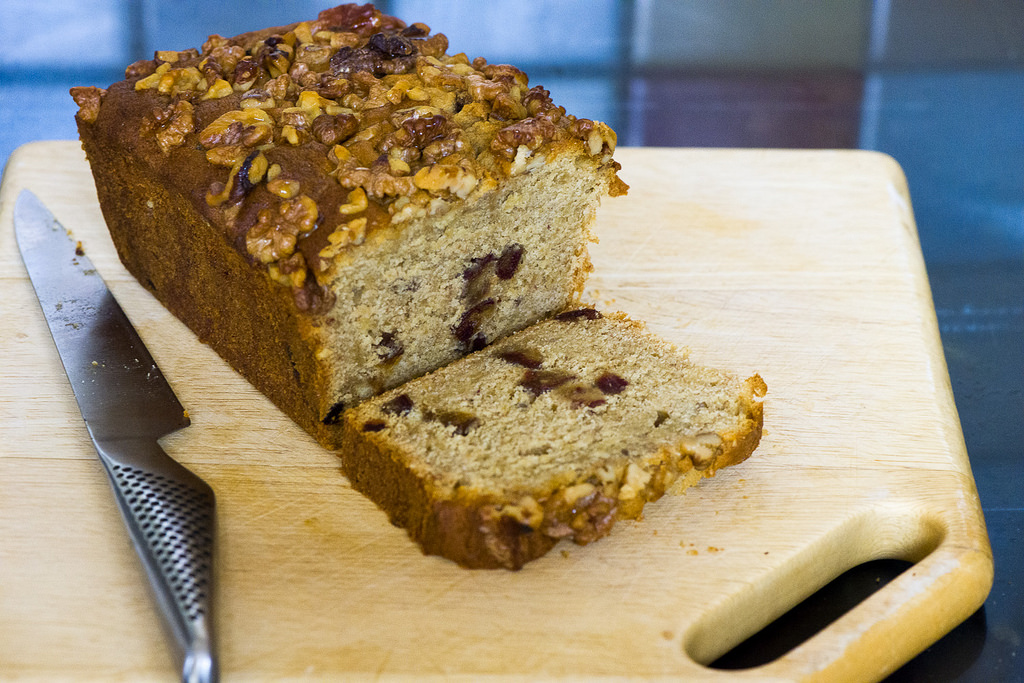slice of bread: (92, 38, 765, 561), (336, 311, 777, 580)
